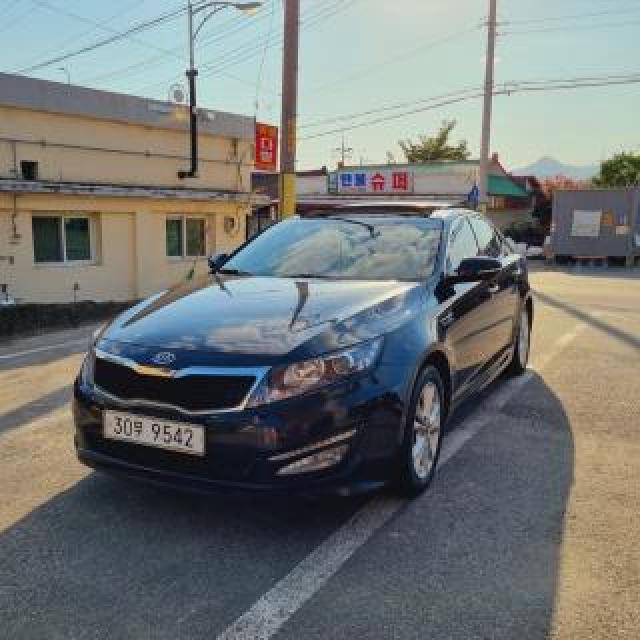car: (71, 201, 537, 501)
illegal_plate: (101, 406, 209, 459)
